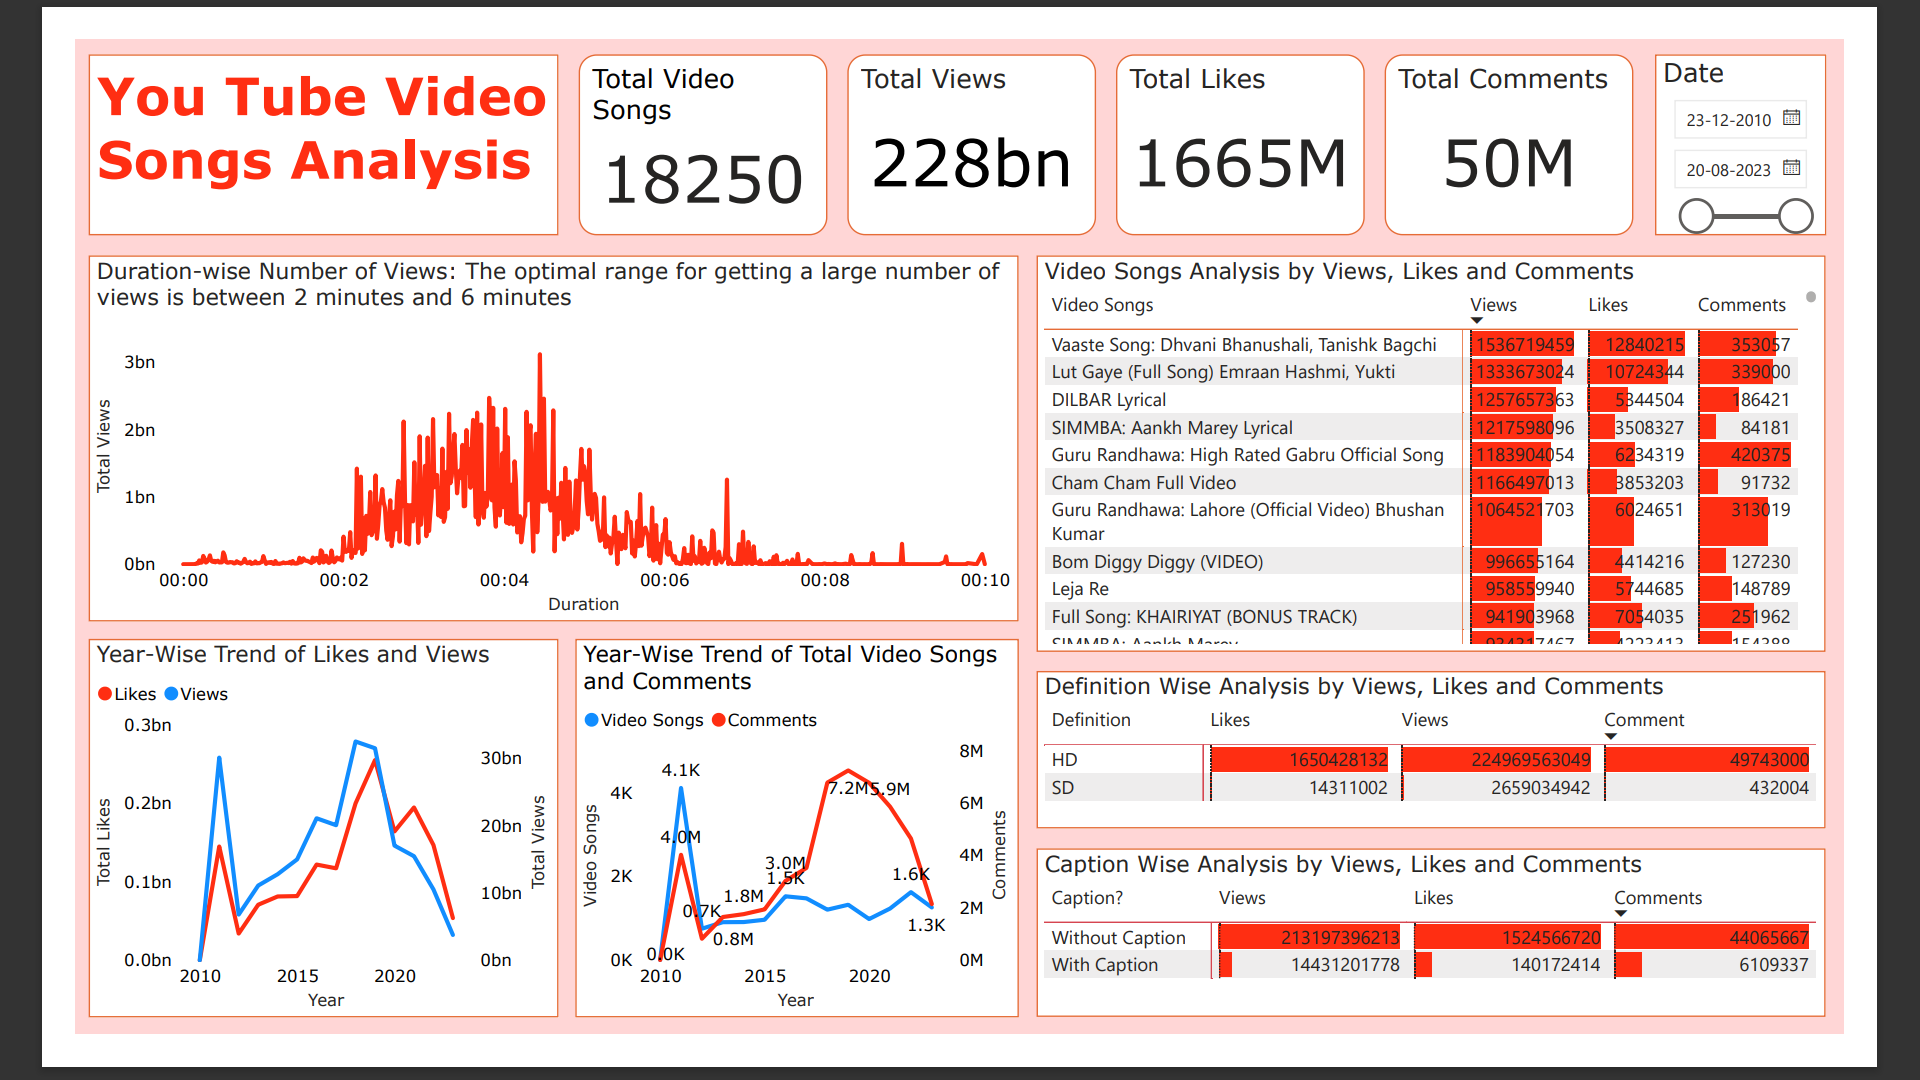

This screenshot's page, from the dashboard's own definition file:
{"tool":"powerbi","page":{"name":"Dashboard","canvas":[1280,720],"ordinal":0},"visuals":[{"type":"pivotTable","title":"Video Songs Analysis by Views, Likes and  Comments","fields":{"Rows":["Sheet1.Songs"],"Values":["Sum(Sheet1.viewCount)","Sum(Sheet1.likeCount)","Sum(Sheet1.commentCount)"]},"box":[695.8,154.1,571.1,289.8],"z":0},{"type":"textbox","box":[10,11.4,340,128.6],"z":1000},{"type":"card","title":"Total Views","fields":{"Values":["Sum(Sheet1.viewCount)"]},"box":[558.6,11.4,180,128.6],"z":2000},{"type":"card","title":"Total Likes","fields":{"Values":["Sum(Sheet1.likeCount)"]},"box":[752.9,11.4,180,128.6],"z":3000},{"type":"card","title":"Total Comments","fields":{"Values":["Sum(Sheet1.commentCount)"]},"box":[947.1,11.4,180,128.6],"z":4000},{"type":"card","title":"Total Video Songs","fields":{"Values":["CountNonNull(Sheet1.video_id)"]},"box":[364.3,11.4,180,128.6],"z":5000},{"type":"lineChart","title":"Duration-wise Number of Views: The optimal range for getting a large number of views is between 2 minutes and 6 minutes","fields":{"Category":["Video Songs db.Duration"],"Y":["Sum(Video Songs db.viewCount)"]},"box":[10.1,154.4,672.3,265.5],"z":6000},{"type":"lineChart","title":"Year-Wise Trend of Likes and Views","fields":{"Category":["Sheet1.Date1.Variation.Date Hierarchy.Year","Sheet1.Date1.Variation.Date Hierarchy.Quarter","Sheet1.Date1.Variation.Date Hierarchy.Month","Sheet1.Date1.Variation.Date Hierarchy.Day"],"Y":["Sum(Sheet1.likeCount)"],"Y2":["Sum(Sheet1.viewCount)"]},"box":[10,434.3,340,274.3],"z":7000},{"type":"lineChart","title":"Year-Wise Trend of Total Video Songs and Comments","fields":{"Category":["Sheet1.Date1.Variation.Date Hierarchy.Year","Sheet1.Date1.Variation.Date Hierarchy.Quarter","Sheet1.Date1.Variation.Date Hierarchy.Month","Sheet1.Date1.Variation.Date Hierarchy.Day"],"Y":["CountNonNull(Sheet1.Songs)"],"Y2":["Sum(Video Songs db.commentCount)"]},"box":[361.4,434.3,321.4,274.3],"z":8000},{"type":"pivotTable","title":"Caption Wise Analysis by Views, Likes and  Comments","fields":{"Rows":["Sheet1.caption"],"Values":["Sum(Sheet1.viewCount)","Sum(Sheet1.likeCount)","Sum(Sheet1.commentCount)"]},"box":[695.8,585.7,571.1,122.3],"z":9000},{"type":"pivotTable","title":"Definition Wise Analysis by Views, Likes and  Comments","fields":{"Rows":["Sheet1.definition"],"Values":["Sum(Sheet1.likeCount)","Sum(Sheet1.viewCount)","Sum(Sheet1.commentCount)"]},"box":[695.8,458.6,571.1,112.5],"z":10000},{"type":"slicer","fields":{"Values":["Video Songs db.Date"]},"box":[1145.7,11.4,121.4,128.6],"z":11000}]}

Visuals, with their boxes in screenshot pixels (x1, y1, x2, y2), scaled from the page's 1280x720 canvas onto the 1920x1080 screenshot:
"Video Songs Analysis by Views, Likes and  Comments" pivotTable: (x1=1044, y1=231, x2=1900, y2=666)
textbox: (x1=15, y1=17, x2=525, y2=210)
"Total Views" card: (x1=838, y1=17, x2=1108, y2=210)
"Total Likes" card: (x1=1129, y1=17, x2=1399, y2=210)
"Total Comments" card: (x1=1421, y1=17, x2=1691, y2=210)
"Total Video Songs" card: (x1=546, y1=17, x2=816, y2=210)
"Duration-wise Number of Views: The optimal range for getting a large number of views is between 2 minutes and 6 minutes" lineChart: (x1=15, y1=232, x2=1024, y2=630)
"Year-Wise Trend of Likes and Views" lineChart: (x1=15, y1=651, x2=525, y2=1063)
"Year-Wise Trend of Total Video Songs and Comments" lineChart: (x1=542, y1=651, x2=1024, y2=1063)
"Caption Wise Analysis by Views, Likes and  Comments" pivotTable: (x1=1044, y1=879, x2=1900, y2=1062)
"Definition Wise Analysis by Views, Likes and  Comments" pivotTable: (x1=1044, y1=688, x2=1900, y2=857)
slicer - Video Songs db.Date: (x1=1719, y1=17, x2=1901, y2=210)
